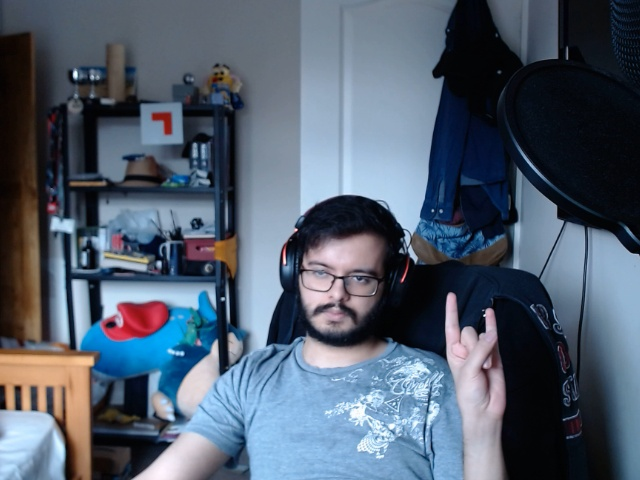Rock on: (444, 286, 505, 434)
